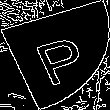P_N: (22, 25, 88, 85)
